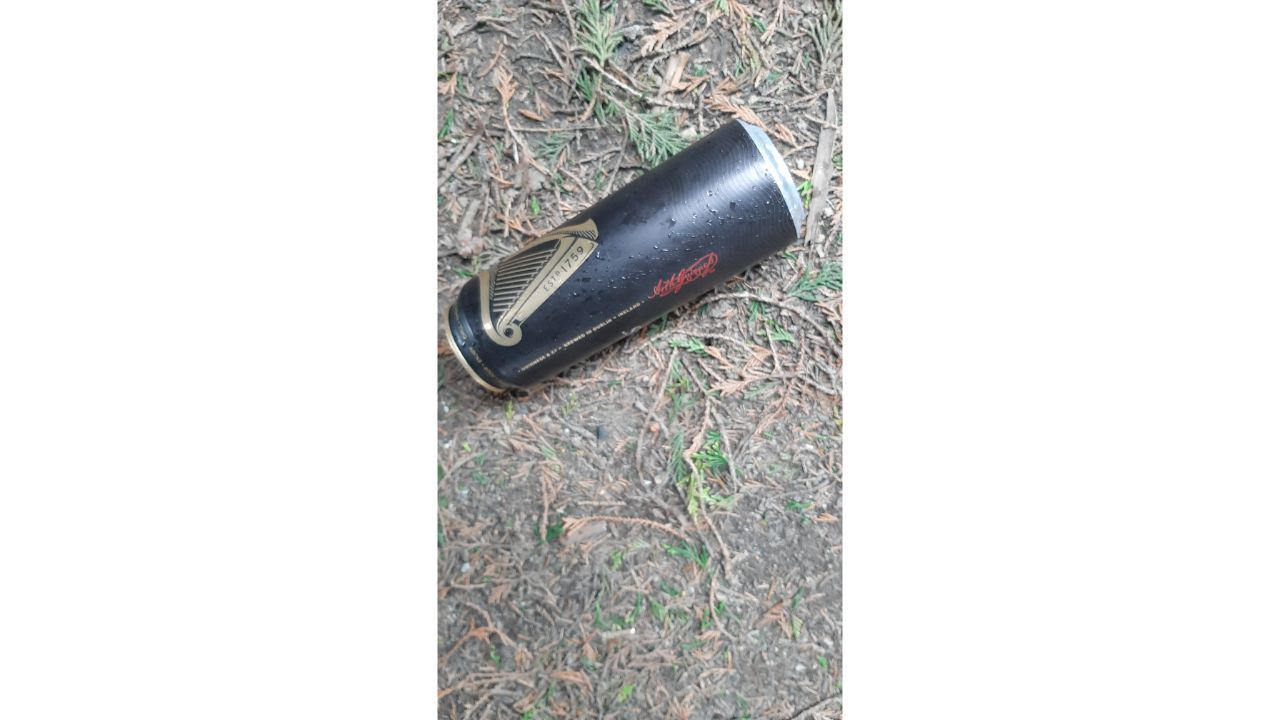Can: (440, 111, 814, 412)
